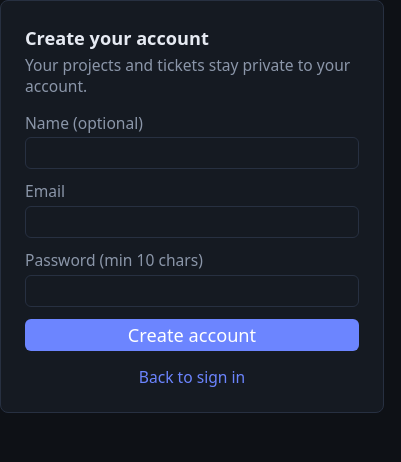
Test: RegisterPage › shows a server registration error
In the field with test id "register-email": x=192, y=222 [25,206,359,238], type "owner@zakisu.test"
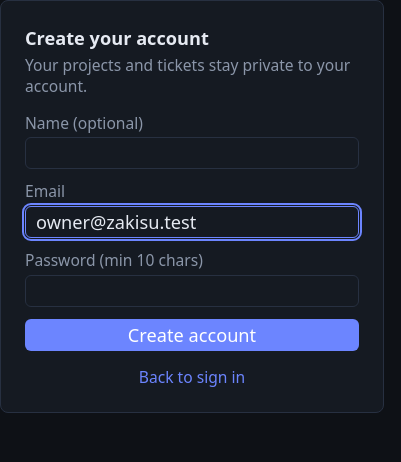
In the password field with test id "register-password": x=192, y=291 [25,275,359,307], type "owner-password-1"
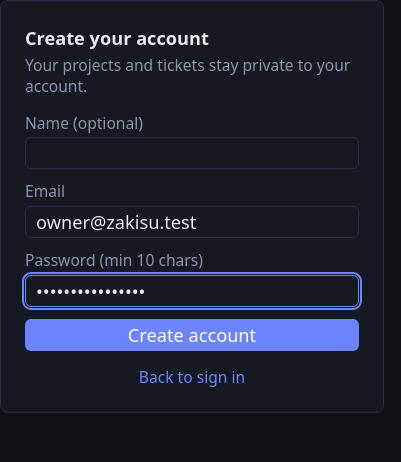
Click the button with test id "register-submit": x=192, y=335 [25,319,359,351]
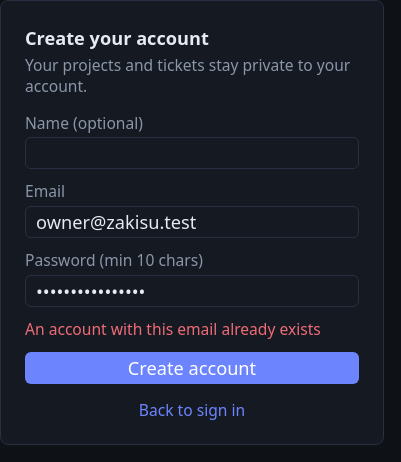
Expected: the message with test id "register-error" reads "An account with this email already exists", [25,318,321,340]
